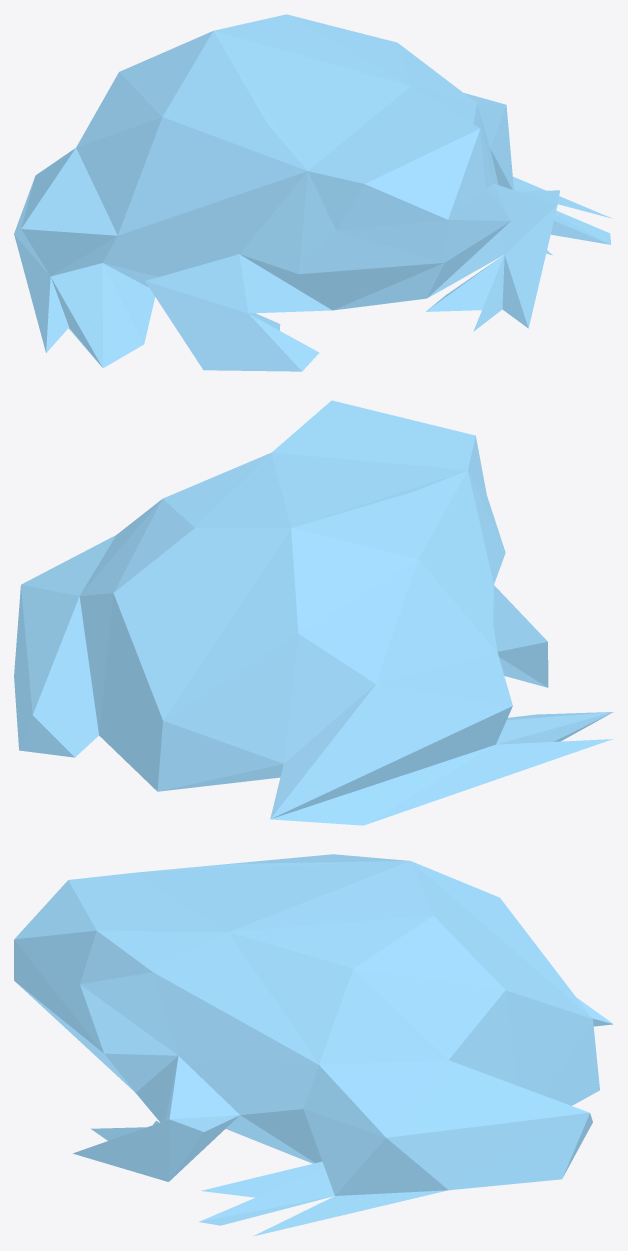
Rendered from keepy_stomper_toad.glb.
3 views of the same model, one above another, from view 1: azimuth 30°, elevation 25°; view 2: azimuth 150°, elevation 25°; view 3: azimuth 270°, elevation 25° (orthographic). The views are drawn at different scales.
Visible parts, largest first — view 1: stomper_toad_150; view 2: stomper_toad_150; view 3: stomper_toad_150.
Part boxes in pixels (x1,y1,x2,y2): stomper_toad_150: (14, 14, 612, 371); stomper_toad_150: (14, 400, 613, 825); stomper_toad_150: (14, 854, 613, 1236).
Bounding box in the file's own units: 1.89 × 0.7008 × 1.69.
